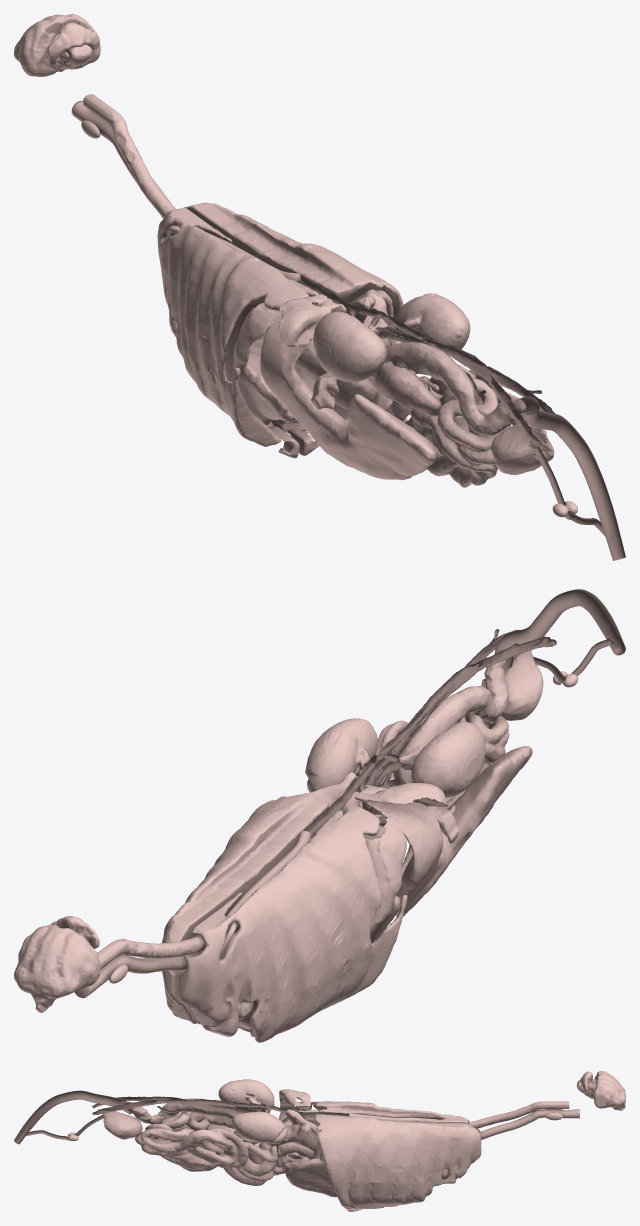
The model's file is visceral.glb.
The picture shows the model from 3 angles, top to bottom: view 1: azimuth 30°, elevation 25°; view 2: azimuth 150°, elevation 25°; view 3: azimuth 270°, elevation 25°; orthographic projection. The views are drawn at different scales.
Parts seen in each view (by area): view 1: cat_visceral_lungs_L, cat_visceral_spleen, cat_visceral_large-intestine, cat_visceral_lungs_R, cat_visceral_small-intestine, cat_visceral_liver, cat_visceral_great-vessels, cat_visceral_kidneys_L, cat_visceral_urinary-bladder, cat_visceral_kidneys_R, cat_visceral_brain_cerebrum, cat_visceral_esophagus (+4 smaller); view 2: cat_visceral_lungs_L, cat_visceral_lungs_R, cat_visceral_spleen, cat_visceral_large-intestine, cat_visceral_great-vessels, cat_visceral_brain_cerebrum, cat_visceral_kidneys_L, cat_visceral_liver, cat_visceral_kidneys_R, cat_visceral_urinary-bladder, cat_visceral_small-intestine, cat_visceral_esophagus (+3 smaller); view 3: cat_visceral_lungs_R, cat_visceral_small-intestine, cat_visceral_liver, cat_visceral_large-intestine, cat_visceral_great-vessels, cat_visceral_lungs_L, cat_visceral_kidneys_R, cat_visceral_kidneys_L, cat_visceral_urinary-bladder, cat_visceral_brain_cerebrum, cat_visceral_spleen, cat_visceral_esophagus (+3 smaller).
Boxes of the visible parts, <box> form: cat_visceral_lungs_L: <box>157,208,319,458</box>; cat_visceral_spleen: <box>260,294,436,479</box>; cat_visceral_large-intestine: <box>374,342,625,560</box>; cat_visceral_lungs_R: <box>183,202,403,455</box>; cat_visceral_small-intestine: <box>373,365,531,487</box>; cat_visceral_liver: <box>233,289,401,424</box>; cat_visceral_great-vessels: <box>166,225,554,446</box>; cat_visceral_kidneys_L: <box>313,311,386,382</box>; cat_visceral_urinary-bladder: <box>491,425,613,537</box>; cat_visceral_kidneys_R: <box>395,293,470,355</box>; cat_visceral_brain_cerebrum: <box>14,14,100,76</box>; cat_visceral_esophagus: <box>83,94,176,217</box>; cat_visceral_lungs_L: <box>179,806,407,1042</box>; cat_visceral_lungs_R: <box>161,794,328,1032</box>; cat_visceral_spleen: <box>354,746,532,916</box>; cat_visceral_large-intestine: <box>393,589,625,785</box>; cat_visceral_great-vessels: <box>220,629,556,955</box>; cat_visceral_brain_cerebrum: <box>14,925,100,1012</box>; cat_visceral_kidneys_L: <box>399,721,485,797</box>; cat_visceral_liver: <box>304,772,406,944</box>; cat_visceral_kidneys_R: <box>305,718,377,792</box>; cat_visceral_urinary-bladder: <box>500,638,613,720</box>; cat_visceral_small-intestine: <box>375,698,509,895</box>; cat_visceral_esophagus: <box>97,935,205,968</box>; cat_visceral_lungs_R: <box>315,1114,481,1211</box>; cat_visceral_small-intestine: <box>135,1112,277,1185</box>; cat_visceral_liver: <box>270,1101,337,1197</box>; cat_visceral_large-intestine: <box>14,1090,238,1144</box>; cat_visceral_great-vessels: <box>92,1096,439,1144</box>; cat_visceral_lungs_L: <box>315,1101,480,1131</box>; cat_visceral_kidneys_R: <box>232,1112,287,1143</box>; cat_visceral_kidneys_L: <box>218,1079,274,1111</box>; cat_visceral_urinary-bladder: <box>25,1111,142,1140</box>; cat_visceral_brain_cerebrum: <box>580,1071,625,1110</box>; cat_visceral_spleen: <box>172,1089,312,1175</box>; cat_visceral_esophagus: <box>468,1101,569,1128</box>.
Bounding box in the file's own units: 0.0761 × 0.1128 × 0.4524.
